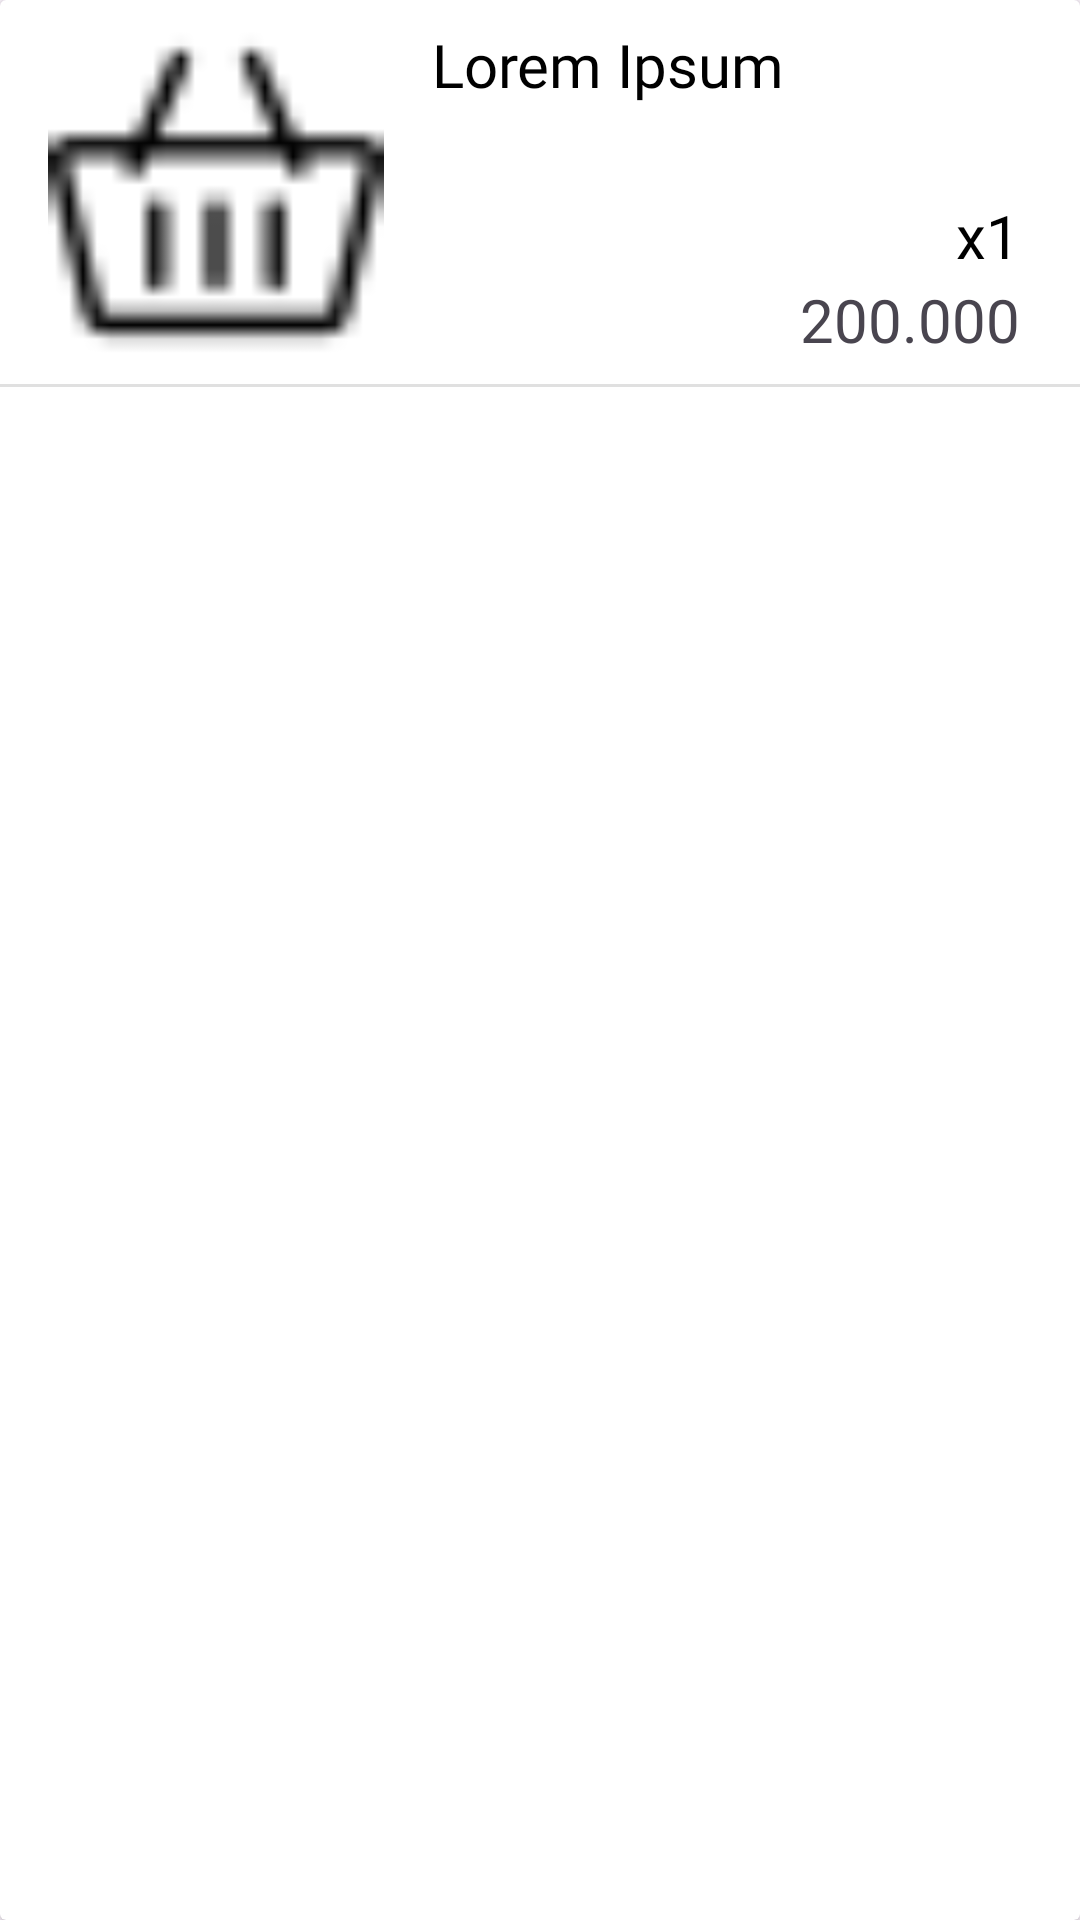

Icon bounding boxes for this 1080x1920 phone screenshot, format (x1, y1, x2, y2):
cart: (48, 46, 384, 343)
